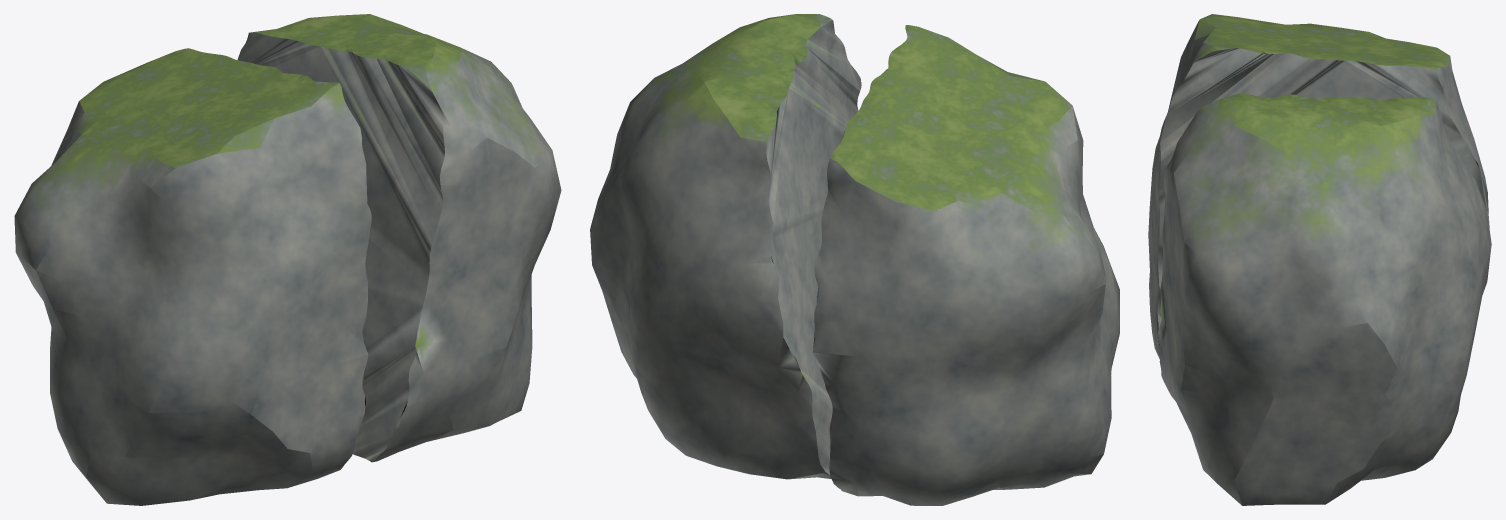
File: 09_MossRock_Split.glb
3 views of the same model, side by side, from view 1: azimuth 30°, elevation 25°; view 2: azimuth 150°, elevation 25°; view 3: azimuth 270°, elevation 25° (orthographic). The views are drawn at different scales.
Visible parts, largest first — view 1: 09_MossRock_Split_Body; view 2: 09_MossRock_Split_Body; view 3: 09_MossRock_Split_Body.
Part boxes in pixels (x1,y1,x2,y2): 09_MossRock_Split_Body: (14, 14, 561, 505); 09_MossRock_Split_Body: (590, 14, 1119, 505); 09_MossRock_Split_Body: (1148, 14, 1491, 505).
Bounding box in the file's own units: 1.37 × 1.03 × 0.8779.
Materials: 1 (1 with a texture image).
